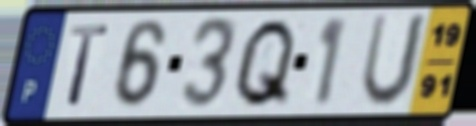1: (315, 15, 349, 110)
3: (179, 14, 239, 114)
6: (110, 17, 170, 113)
Q: (230, 15, 300, 111)
T: (65, 22, 112, 109)
U: (356, 11, 432, 111)
